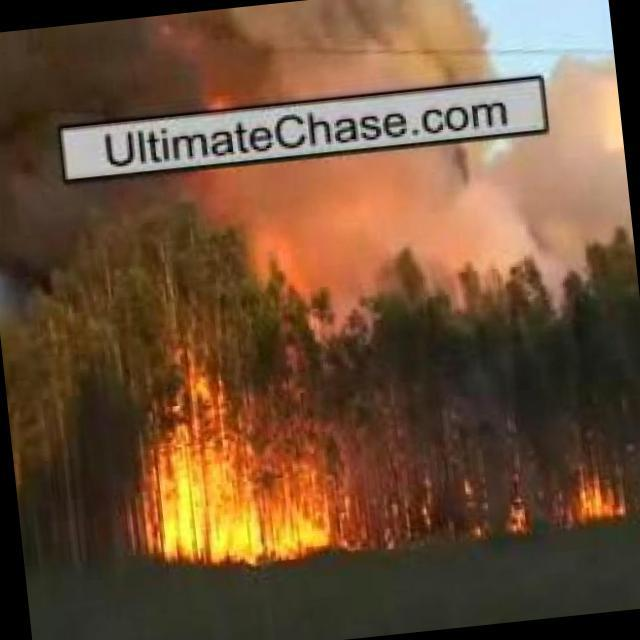Fire: (140, 400, 343, 575), (382, 485, 446, 551), (556, 474, 629, 529), (505, 504, 535, 536)
